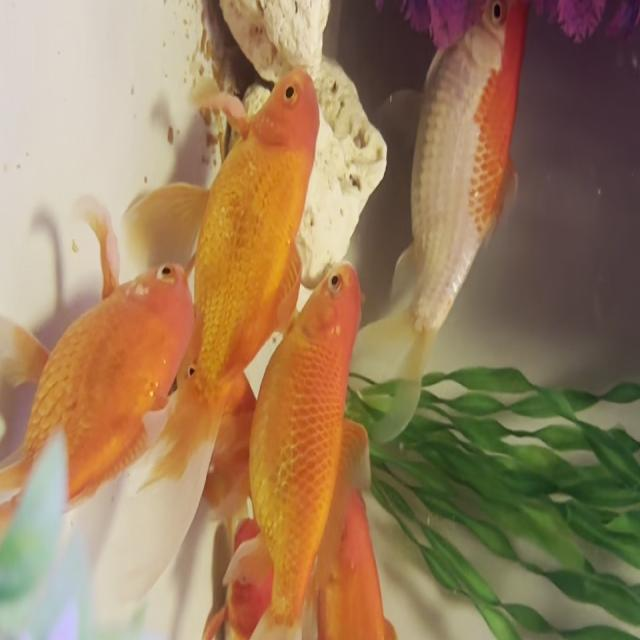fish: (350, 0, 519, 422), (0, 230, 201, 545), (242, 253, 360, 640), (233, 50, 385, 297), (194, 136, 303, 383)
